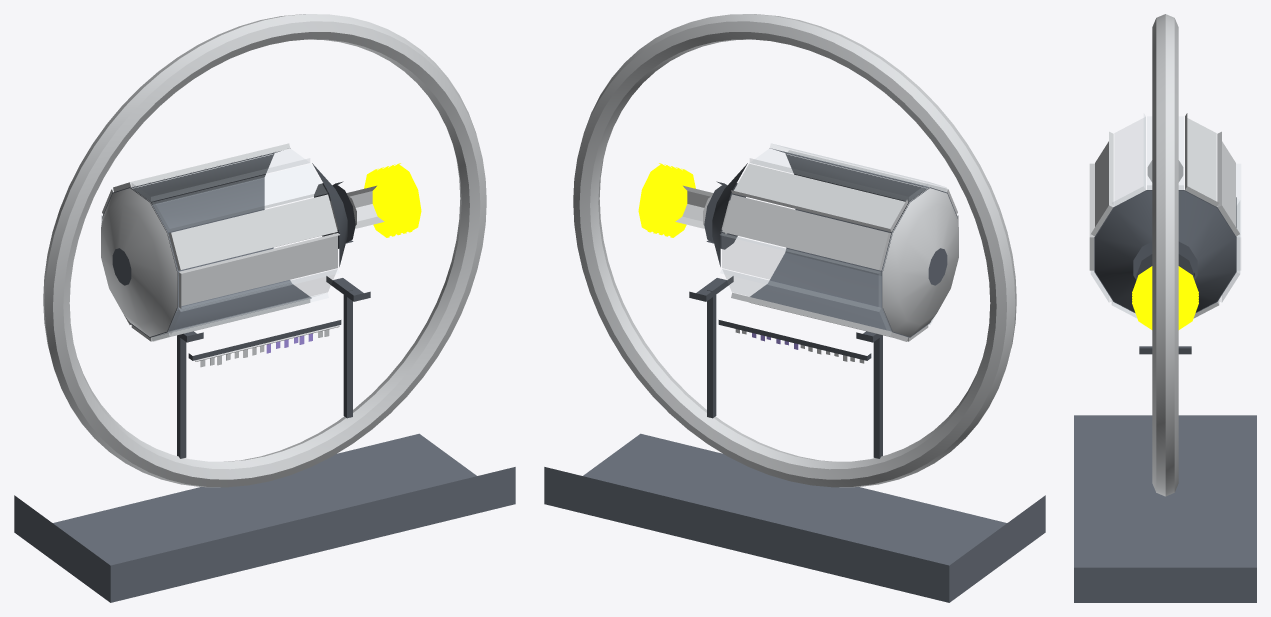
File: ext_memorial_aegis_02.glb
3 views of the same model, side by side, from view 1: azimuth 30°, elevation 25°; view 2: azimuth 150°, elevation 25°; view 3: azimuth 270°, elevation 25° (orthographic). The views are drawn at different scales.
Parts seen in each view (by area): view 1: Base, Halo_Ring, Drum_Hull_Strips, Drum_Solarium_Glass, Drum_Core, Fwd_Endcap_Dome, Fusion_Coils, Cradle_Struts, Aft_Baffle_Bulkhead, Starport_Spine, Tag_Beam, Saddles; view 2: Base, Halo_Ring, Drum_Hull_Strips, Drum_Solarium_Glass, Drum_Core, Fwd_Endcap_Dome, Fusion_Coils, Cradle_Struts, Aft_Baffle_Bulkhead, Starport_Spine, Tag_Beam, Saddles; view 3: Base, Halo_Ring, Aft_Baffle_Bulkhead, Drum_Hull_Strips, Drum_Solarium_Glass, Fusion_Coils, Drum_Core, Docking_Collar.
Part boxes in pixels (left/top/right/bottom): Base: left=14, top=433, right=515, bottom=602; Halo_Ring: left=43, top=14, right=486, bottom=487; Drum_Hull_Strips: left=102, top=143, right=339, bottom=341; Drum_Solarium_Glass: left=101, top=149, right=339, bottom=341; Drum_Core: left=102, top=148, right=311, bottom=337; Fwd_Endcap_Dome: left=101, top=187, right=177, bottom=336; Fusion_Coils: left=364, top=163, right=421, bottom=237; Cradle_Struts: left=177, top=290, right=352, bottom=458; Aft_Baffle_Bulkhead: left=312, top=163, right=347, bottom=266; Starport_Spine: left=329, top=185, right=384, bottom=233; Tag_Beam: left=188, top=320, right=341, bottom=360; Saddles: left=177, top=276, right=370, bottom=342; Base: left=544, top=433, right=1045, bottom=602; Halo_Ring: left=573, top=14, right=1016, bottom=487; Drum_Hull_Strips: left=722, top=150, right=958, bottom=341; Drum_Solarium_Glass: left=720, top=143, right=946, bottom=333; Drum_Core: left=750, top=148, right=957, bottom=337; Fwd_Endcap_Dome: left=882, top=187, right=958, bottom=336; Fusion_Coils: left=638, top=163, right=695, bottom=237; Cradle_Struts: left=707, top=290, right=882, bottom=458; Aft_Baffle_Bulkhead: left=712, top=163, right=747, bottom=266; Starport_Spine: left=675, top=185, right=730, bottom=233; Tag_Beam: left=718, top=320, right=871, bottom=360; Saddles: left=689, top=276, right=882, bottom=342; Base: left=1074, top=415, right=1256, bottom=602; Halo_Ring: left=1152, top=14, right=1178, bottom=496; Aft_Baffle_Bulkhead: left=1095, top=190, right=1235, bottom=312; Drum_Hull_Strips: left=1089, top=113, right=1239, bottom=318; Drum_Solarium_Glass: left=1091, top=114, right=1240, bottom=317; Fusion_Coils: left=1132, top=266, right=1198, bottom=329; Drum_Core: left=1094, top=190, right=1236, bottom=312; Docking_Collar: left=1136, top=254, right=1194, bottom=278.
Size of the model in its own units: 3.7 by 4 by 1.4.
